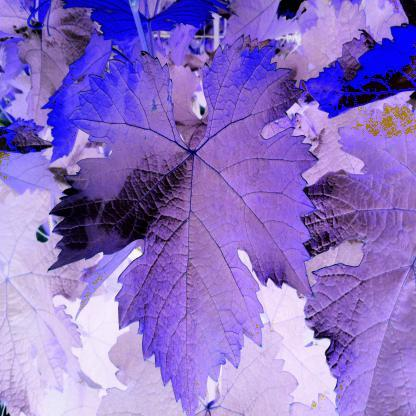grape leaf black rot: (52, 38, 324, 416)
